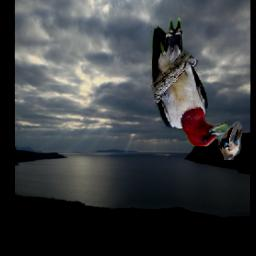Swallow: (218, 123, 242, 161)
Woodpecker: (149, 18, 233, 146)
